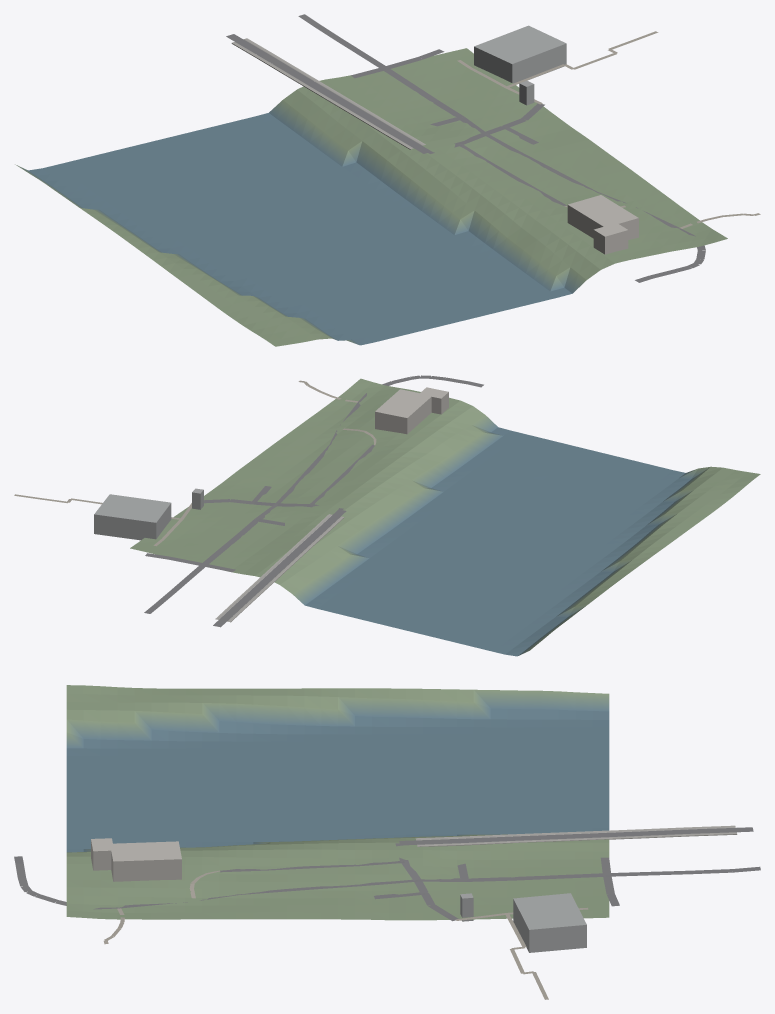
File: tile_7_-6.glb
3 views of the same model, one above another, from view 1: azimuth 30°, elevation 25°; view 2: azimuth 150°, elevation 25°; view 3: azimuth 270°, elevation 25° (orthographic). The views are drawn at different scales.
Parts seen in each view (by area): view 1: terrain, buildings, roads, sidewalks, paths; view 2: terrain, buildings, roads, sidewalks, paths; view 3: terrain, buildings, roads, sidewalks, paths.
Boxes of the visible parts, x1=… form: terrain: x1=15, y1=48, x2=727, y2=346; buildings: x1=474, y1=25, x2=638, y2=254; roads: x1=226, y1=14, x2=705, y2=282; sidewalks: x1=231, y1=38, x2=425, y2=149; paths: x1=457, y1=31, x2=760, y2=228; terrain: x1=130, y1=378, x2=760, y2=656; buildings: x1=94, y1=387, x2=448, y2=540; roads: x1=144, y1=375, x2=483, y2=627; sidewalks: x1=215, y1=514, x2=344, y2=622; paths: x1=14, y1=380, x2=376, y2=546; terrain: x1=66, y1=685, x2=609, y2=920; buildings: x1=91, y1=838, x2=586, y2=952; roads: x1=14, y1=827, x2=760, y2=921; sidewalks: x1=415, y1=825, x2=737, y2=846; paths: x1=103, y1=870, x2=588, y2=999.
Bounding box in the file's own units: 347 × 20.67 × 352.
